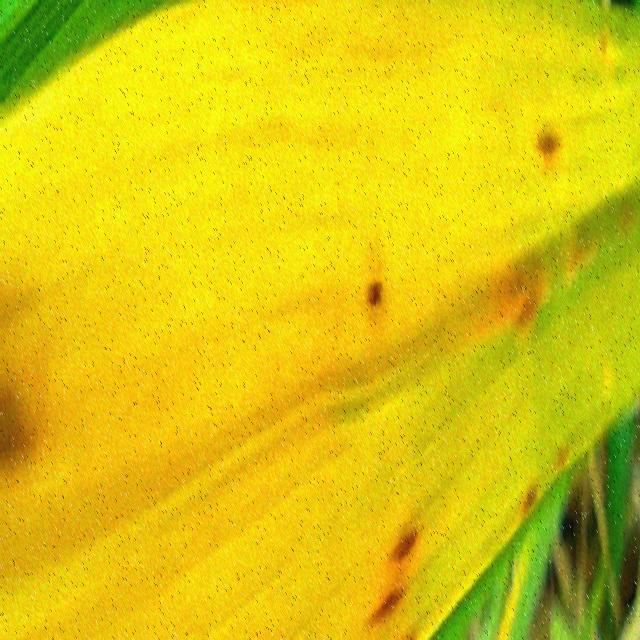NBS: (498, 266, 540, 327), (364, 581, 409, 630), (388, 528, 418, 569), (535, 129, 561, 166), (366, 278, 384, 320), (553, 445, 572, 476), (521, 486, 537, 520), (599, 34, 608, 56), (395, 635, 414, 640)
